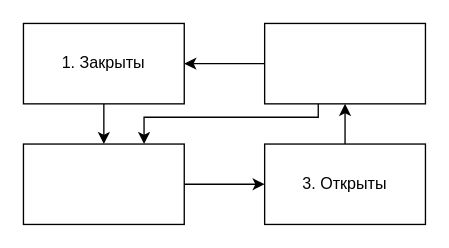
Some shapes in this 449 by 248 pixel diagram are drawn without their labels. The shapes that lost their labels are listed below. From the top down, each one's box as (x1, y1, x2, y2) in pixels, then its label:
(263, 22, 425, 104): 4. Закрываются
(22, 143, 184, 224): 2. Открываются
